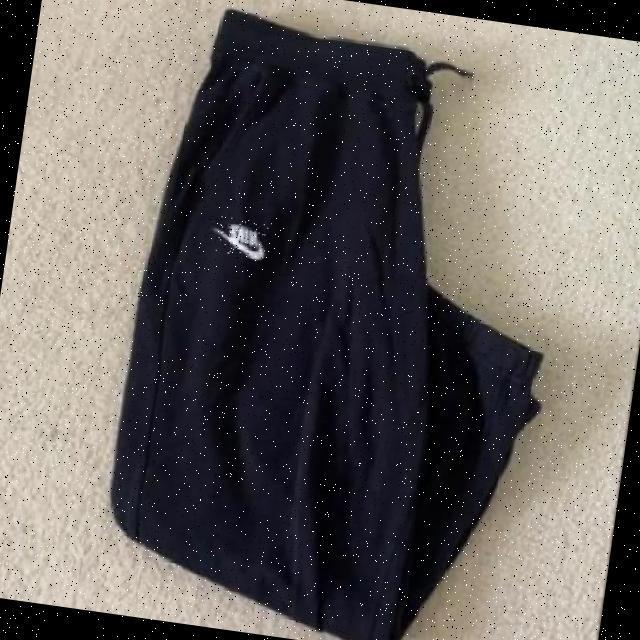Nike: (213, 216, 271, 259)
